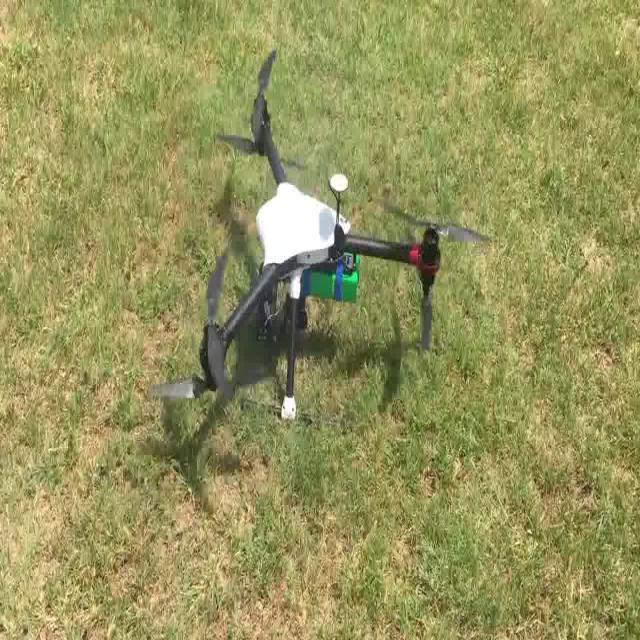drones: (149, 47, 443, 466)
